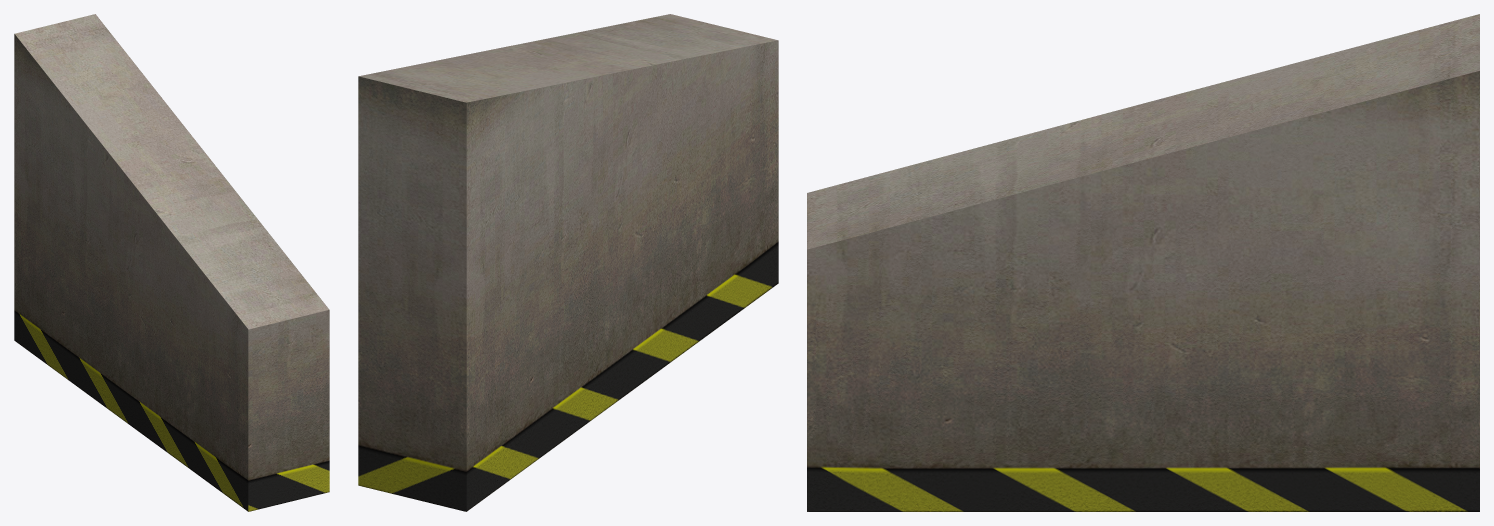
Rendered from aiqiang02.fbx.
3 views of the same model, side by side, from view 1: azimuth 30°, elevation 25°; view 2: azimuth 150°, elevation 25°; view 3: azimuth 270°, elevation 25° (orthographic). The views are drawn at different scales.
Parts seen in each view (by area): view 1: aqiang01; view 2: aqiang01; view 3: aqiang01.
Part boxes in pixels (x1,y1,x2,y2): aqiang01: [14, 14, 329, 511]; aqiang01: [358, 14, 778, 511]; aqiang01: [807, 14, 1479, 511].
Size of the model in its own units: 80 by 289 by 400.
